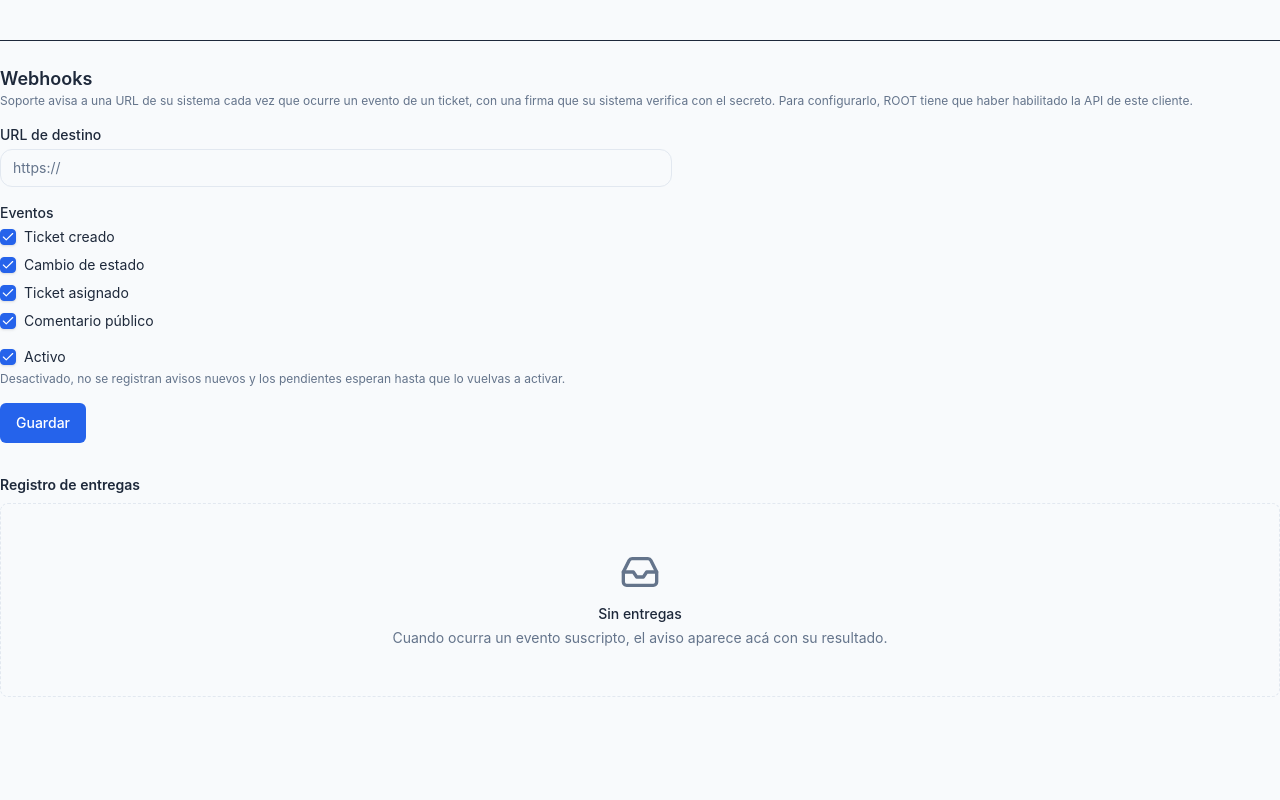
Test: WebhookSection › el primer guardado muestra el secreto una vez y lo descarta al cerrar
Type "https://erp.example.com/hooks" into the field labelled "URL de destino" at (336, 168), box [0,149,672,187]
Click the checkbox named "Cambio de estado" next to "Cambio de estado" at (8, 265), box [0,257,16,273]
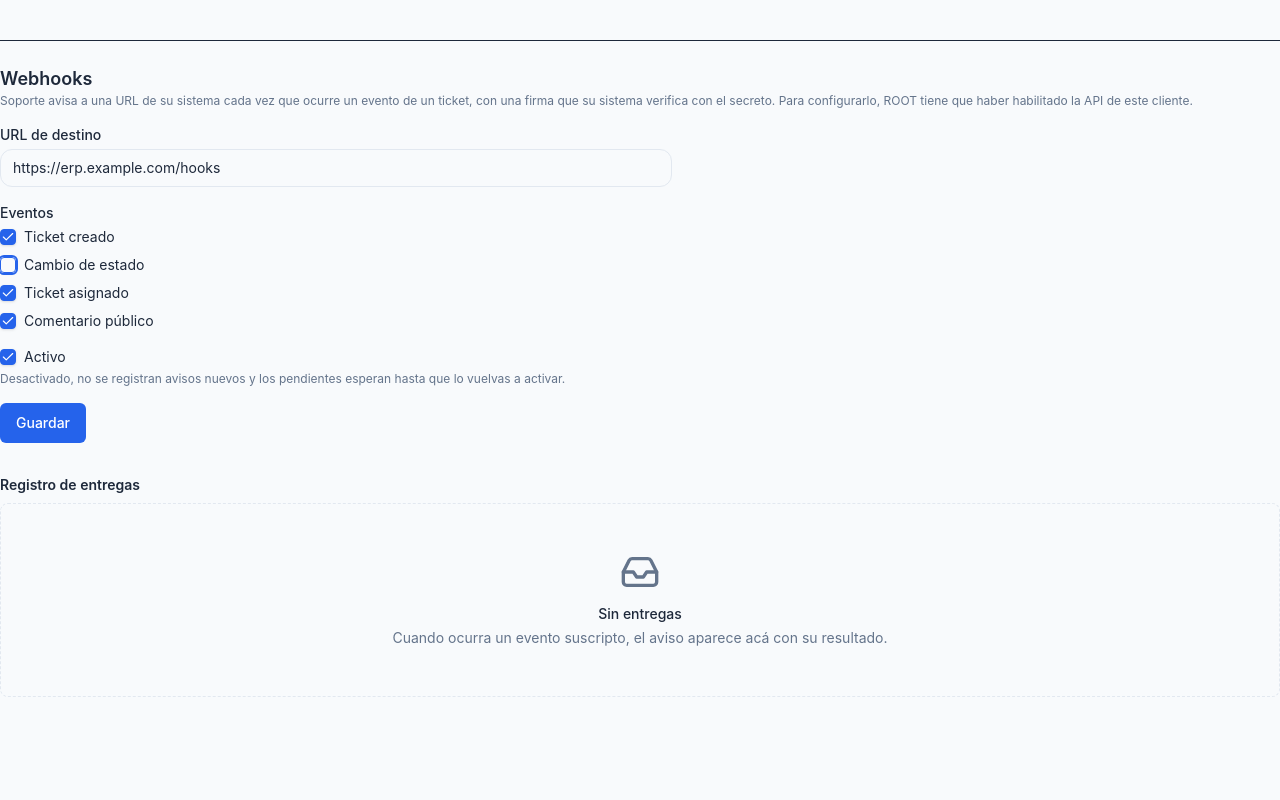
Click the checkbox named "Ticket asignado" next to "Ticket asignado" at (8, 293), box [0,285,16,301]
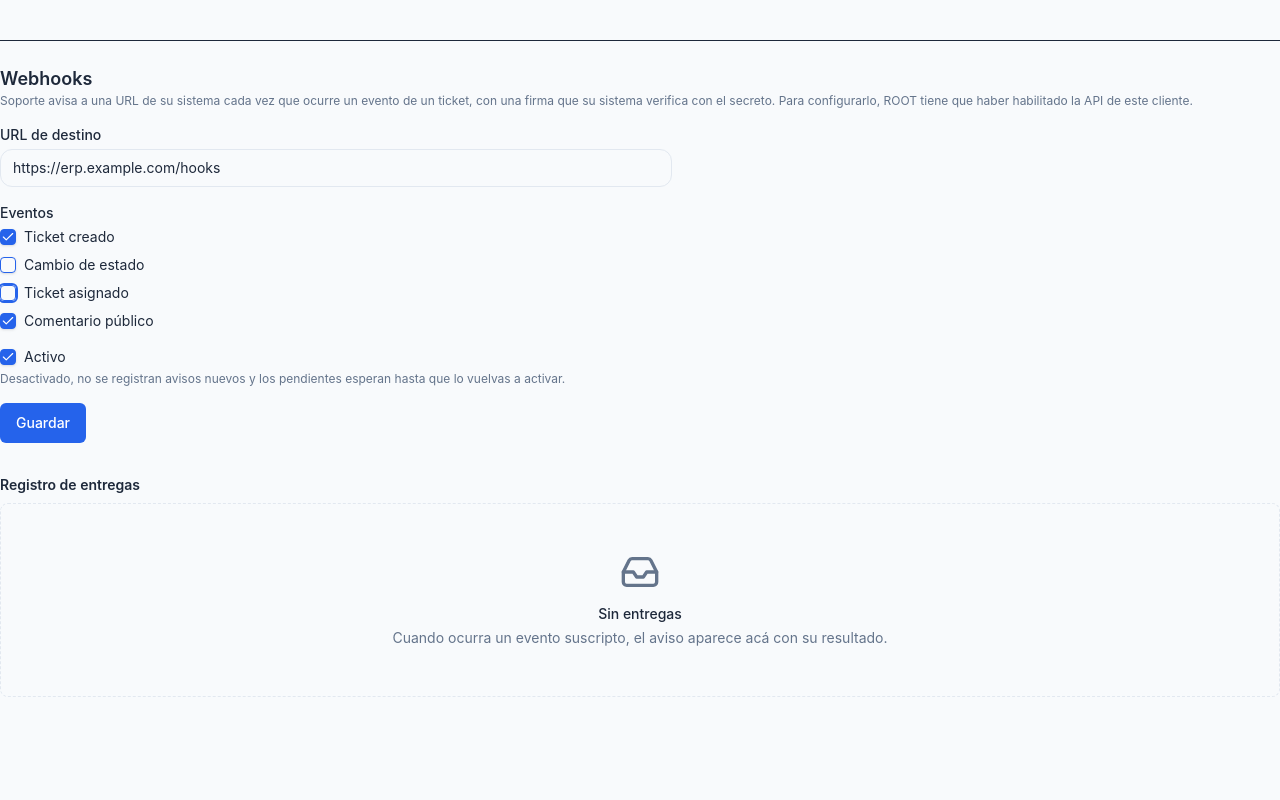
Click the checkbox named "Comentario público" next to "Comentario público" at (8, 321), box [0,313,16,329]
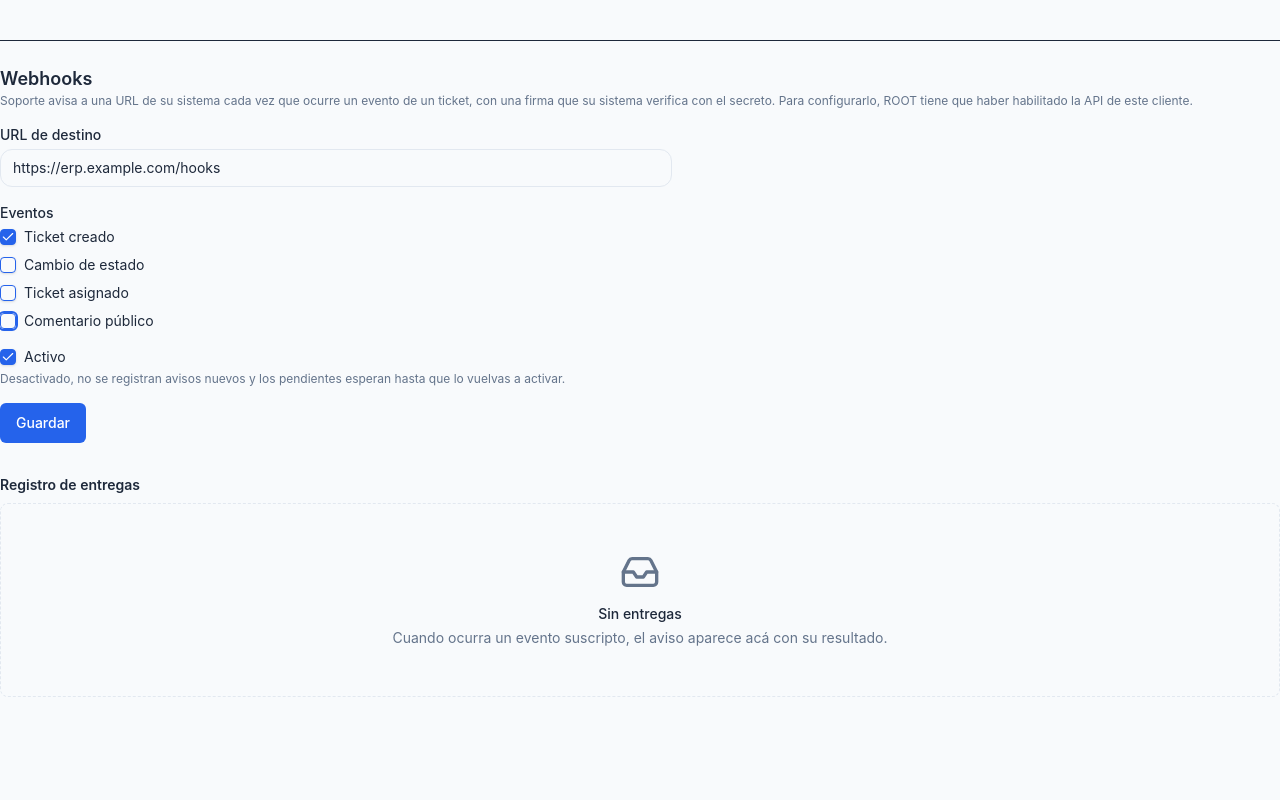
Click the button "Guardar" at (43, 423), box [0,403,86,443]
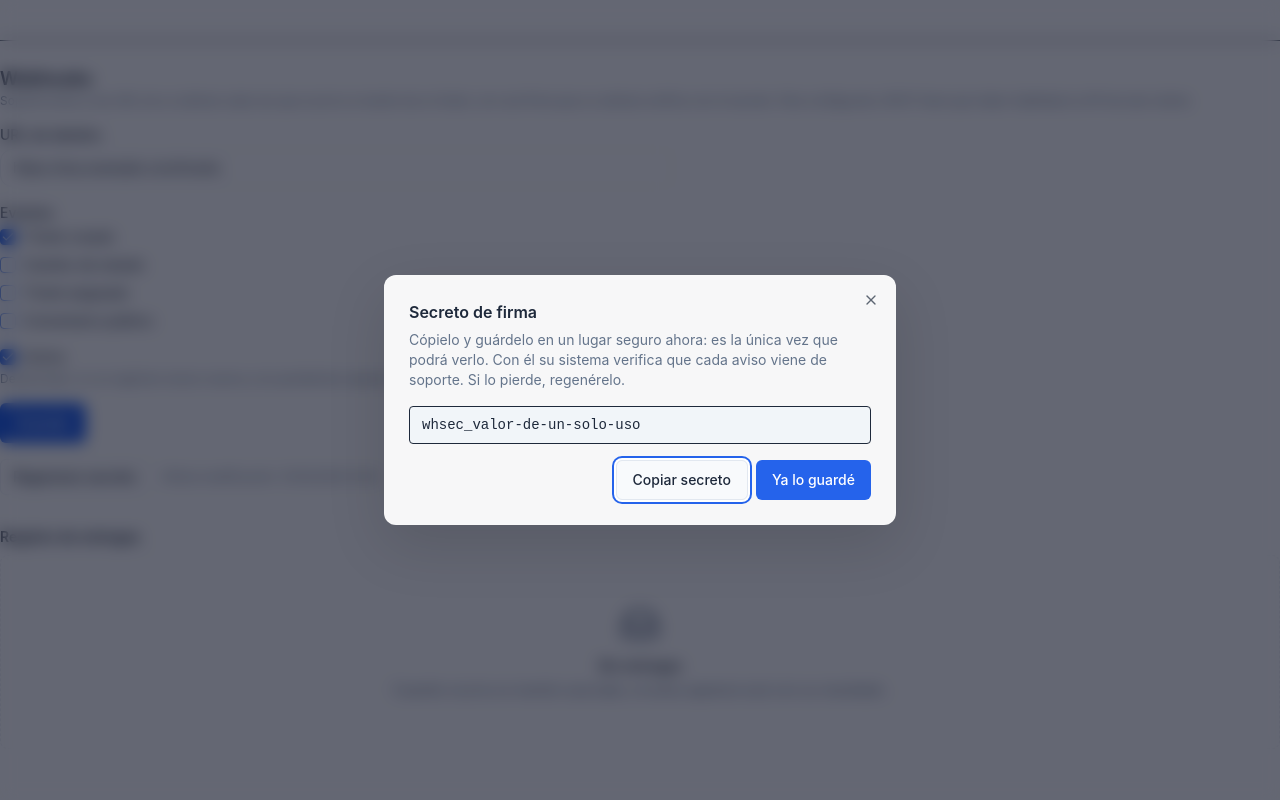
Expected: the text "whsec_valor-de-un-solo-uso" is shown, [409,406,871,444]
Expected: the text "única vez que podrá verlo" is shown, [409,331,838,388]
Click the button "Copiar secreto" at (682, 480), box [616,460,748,500]
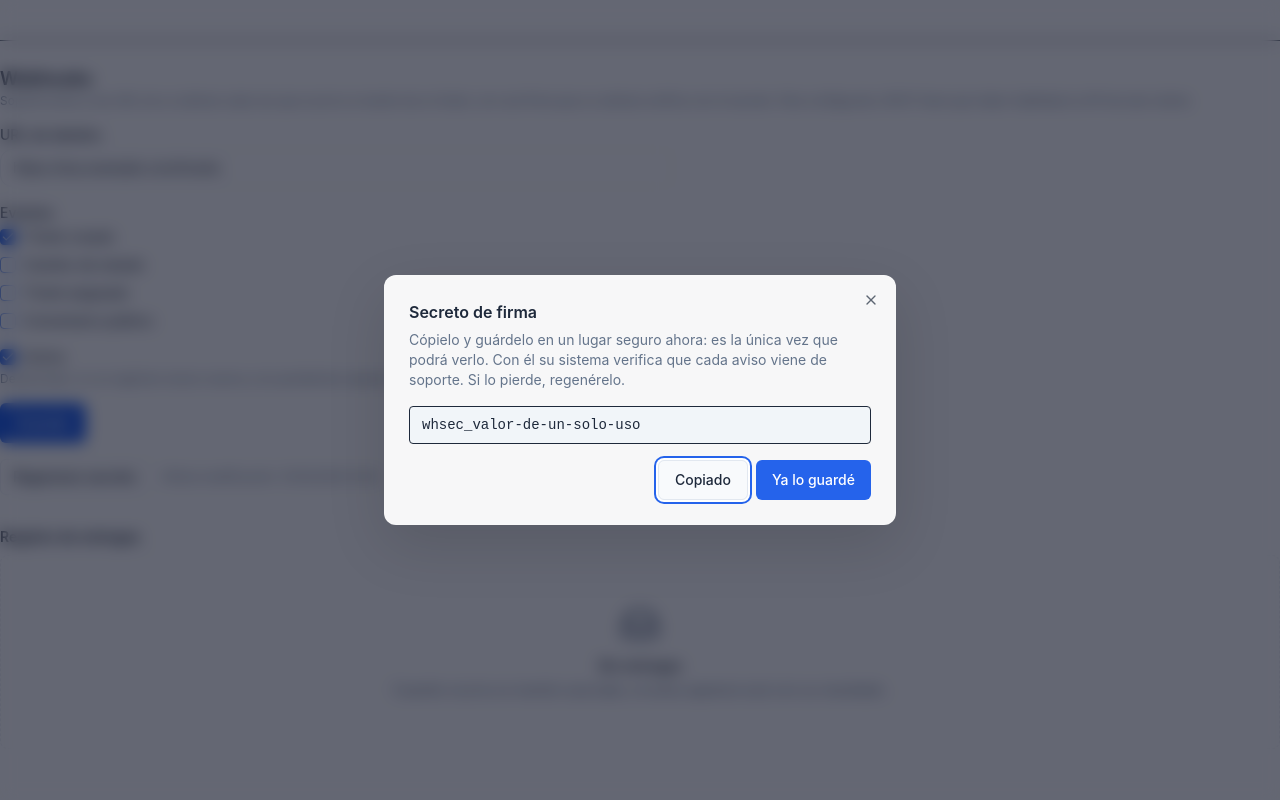
Click the button "Ya lo guardé" at (813, 480), box [756,460,871,500]
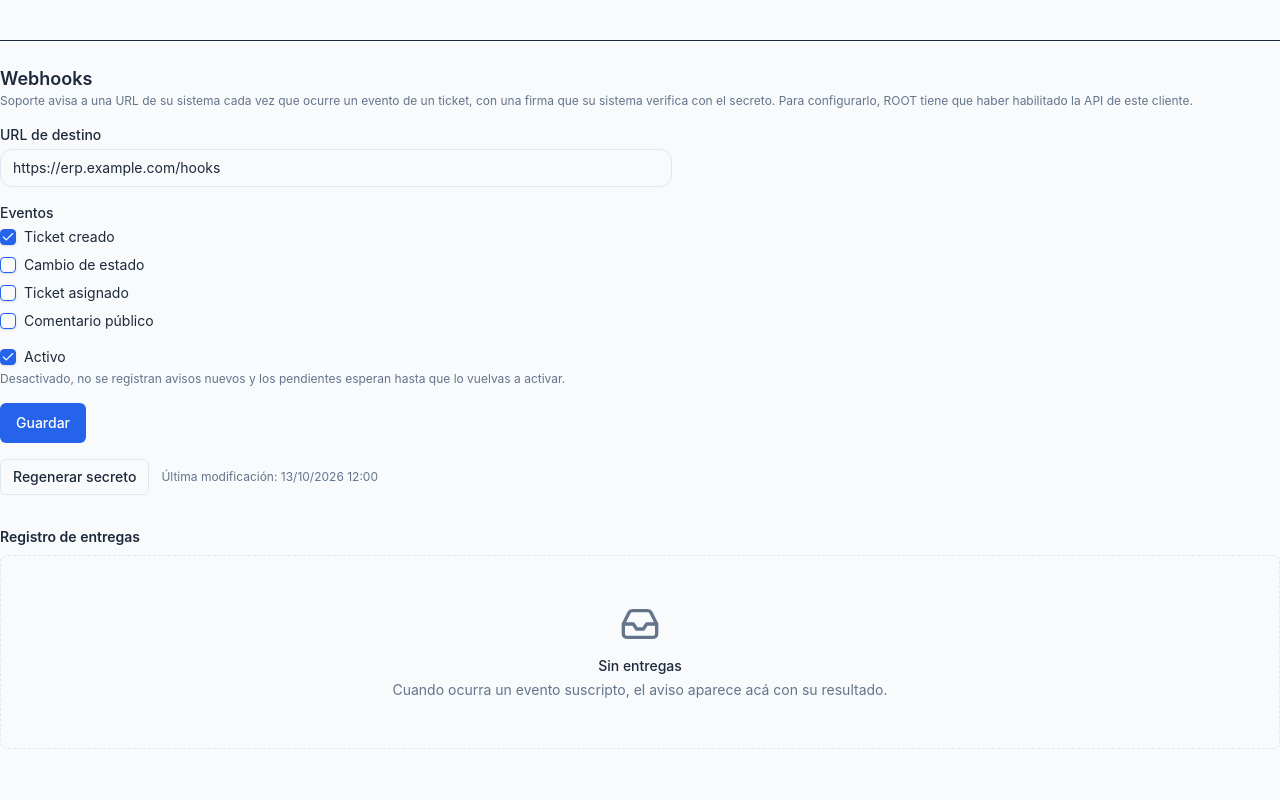
Expected: the button "Regenerar secreto" is shown, [0,459,149,495]
Expected: the text "whsec_valor-de-un-solo-uso" is gone
